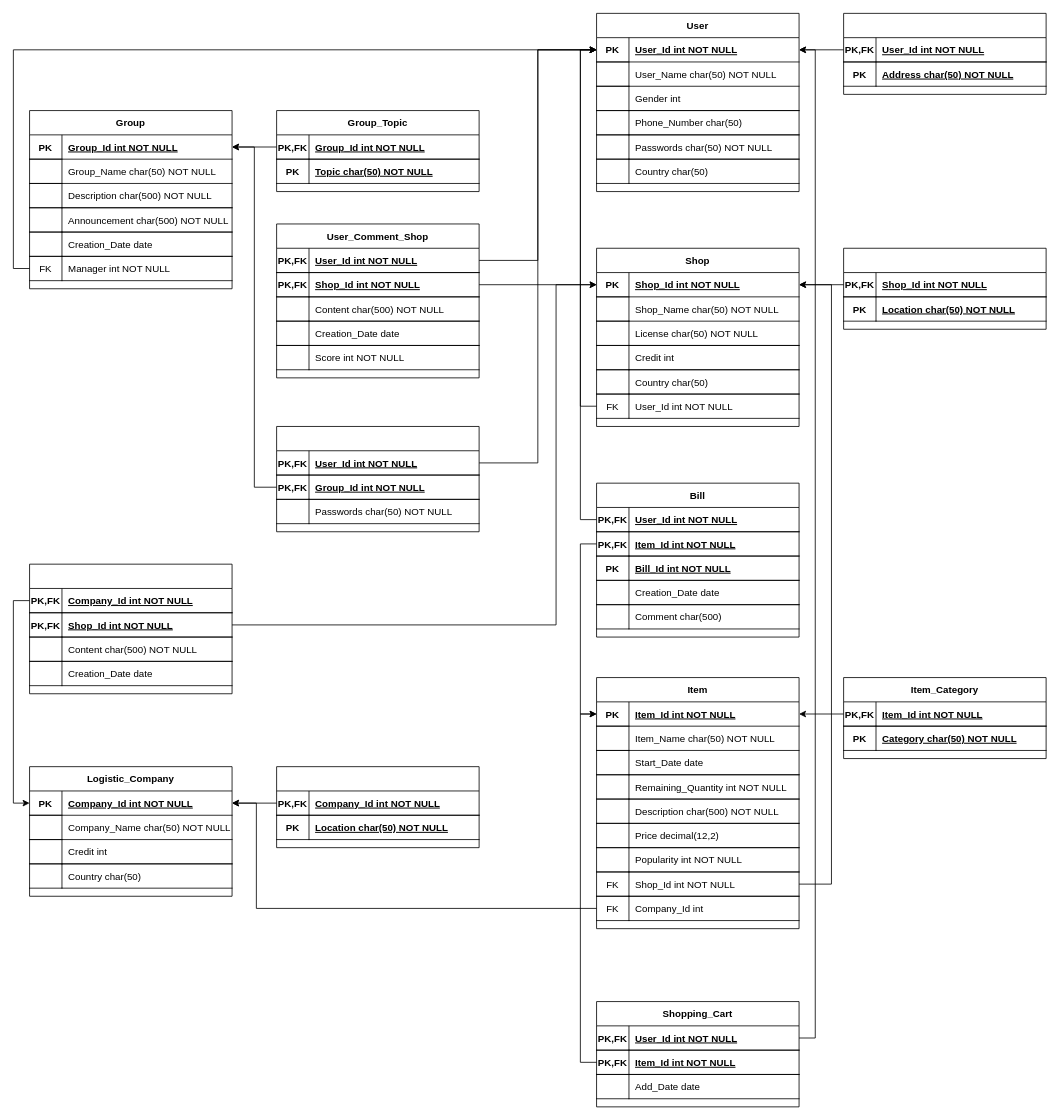
Image size: 1059x1120. Some labels were removed from this diagram. Each missing label, with the box of its shape:
Company_Location: (276, 766, 479, 848)
Shop_Comment_Company: (29, 563, 232, 694)
Shop_Location: (843, 247, 1046, 329)
User_Address: (843, 13, 1046, 94)
User_Join_Group: (276, 426, 479, 532)
